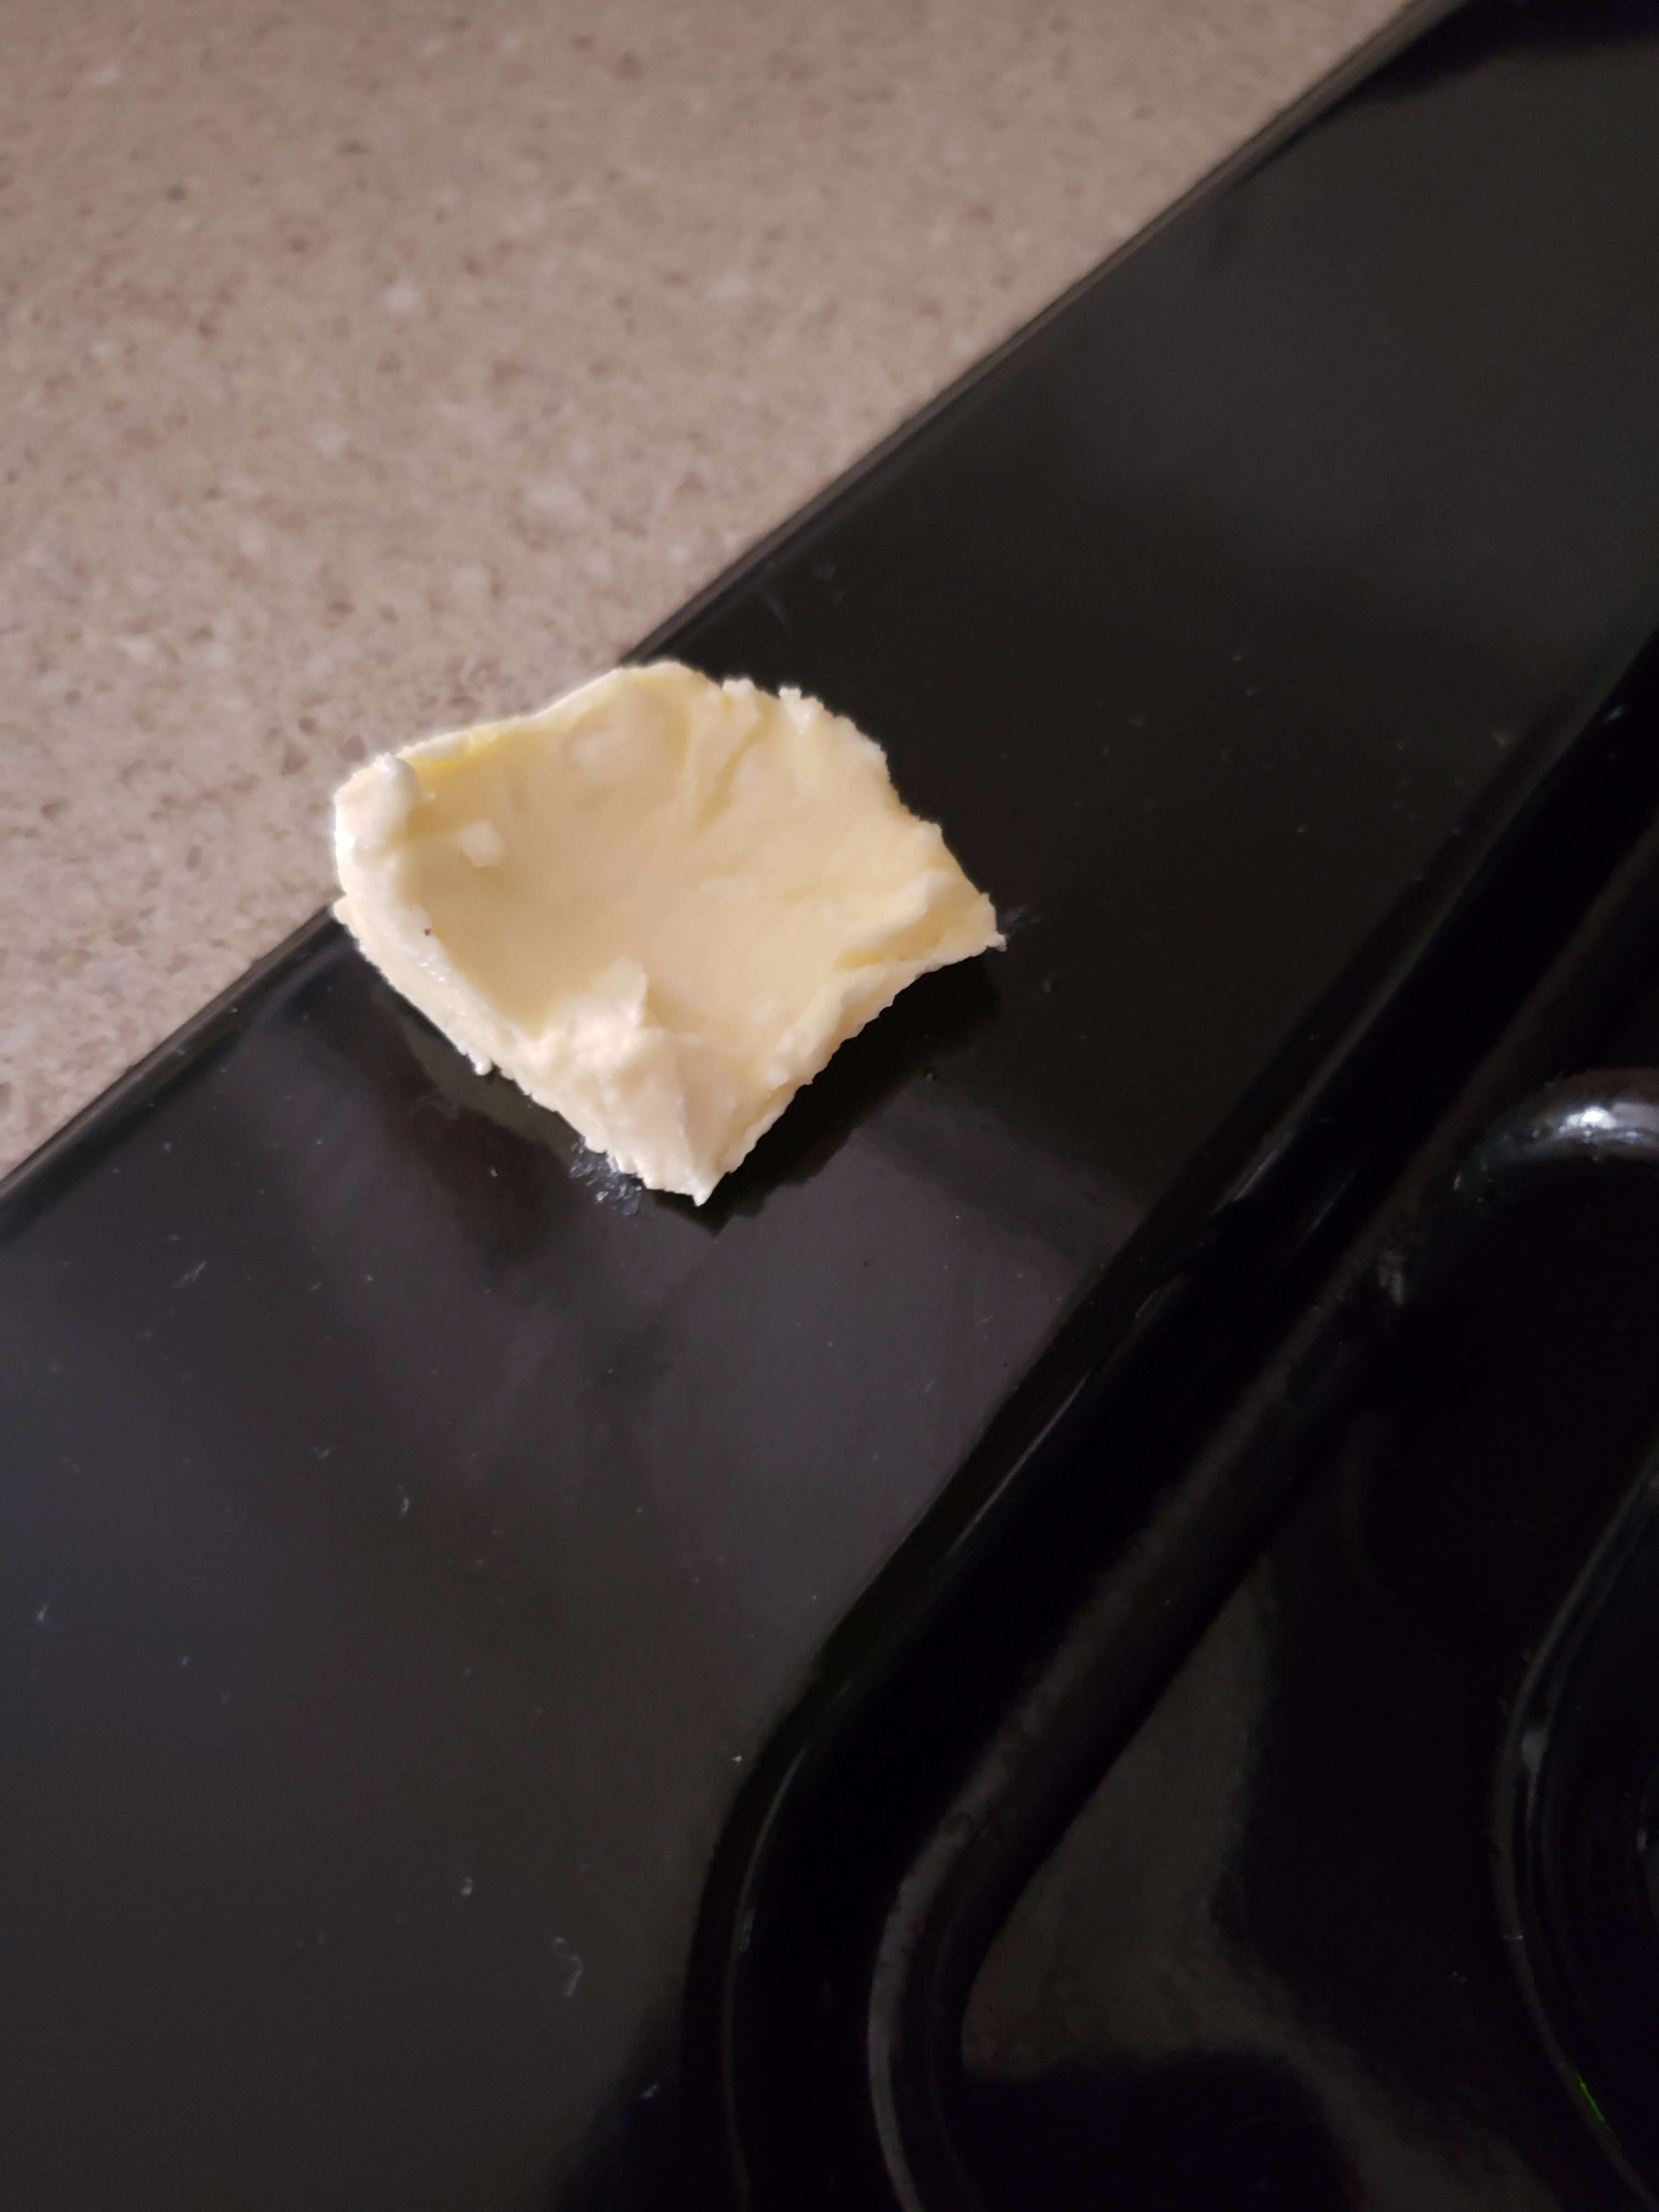Butter: (331, 667, 990, 1176)
